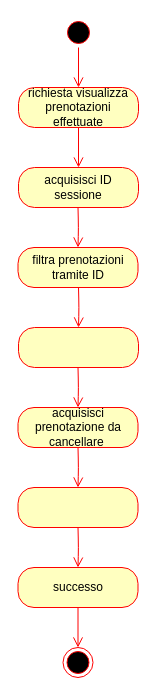
The diagram is 156 pixels wide and 695 high, and some of its shapes have lost their labels. Each missing label, with the centre of its shape:
cancella prenotazione: point (77, 507)
visualizza prenotazioni filtrate: point (78, 347)
